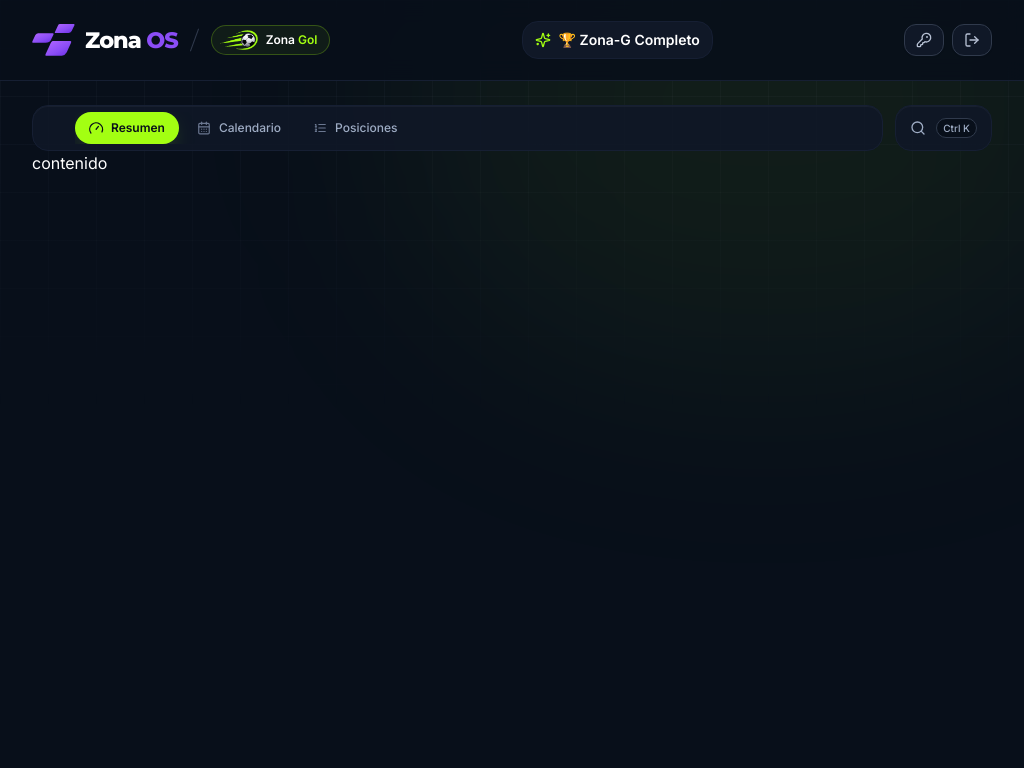
dashboard navigation › opens the section palette from its button and lists only allowed sections
Click the button named "Buscar sección" at (944, 128), box [895,105,992,151]
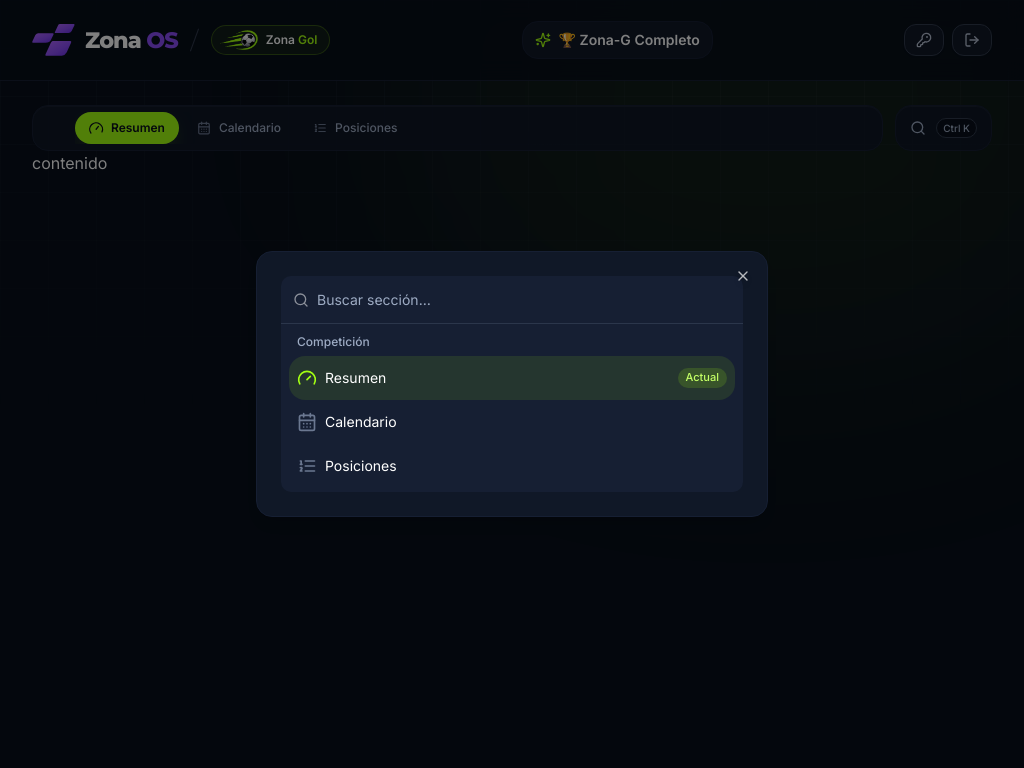
Check: the option "Resumen Actual" is shown, box [289,356,735,400]
